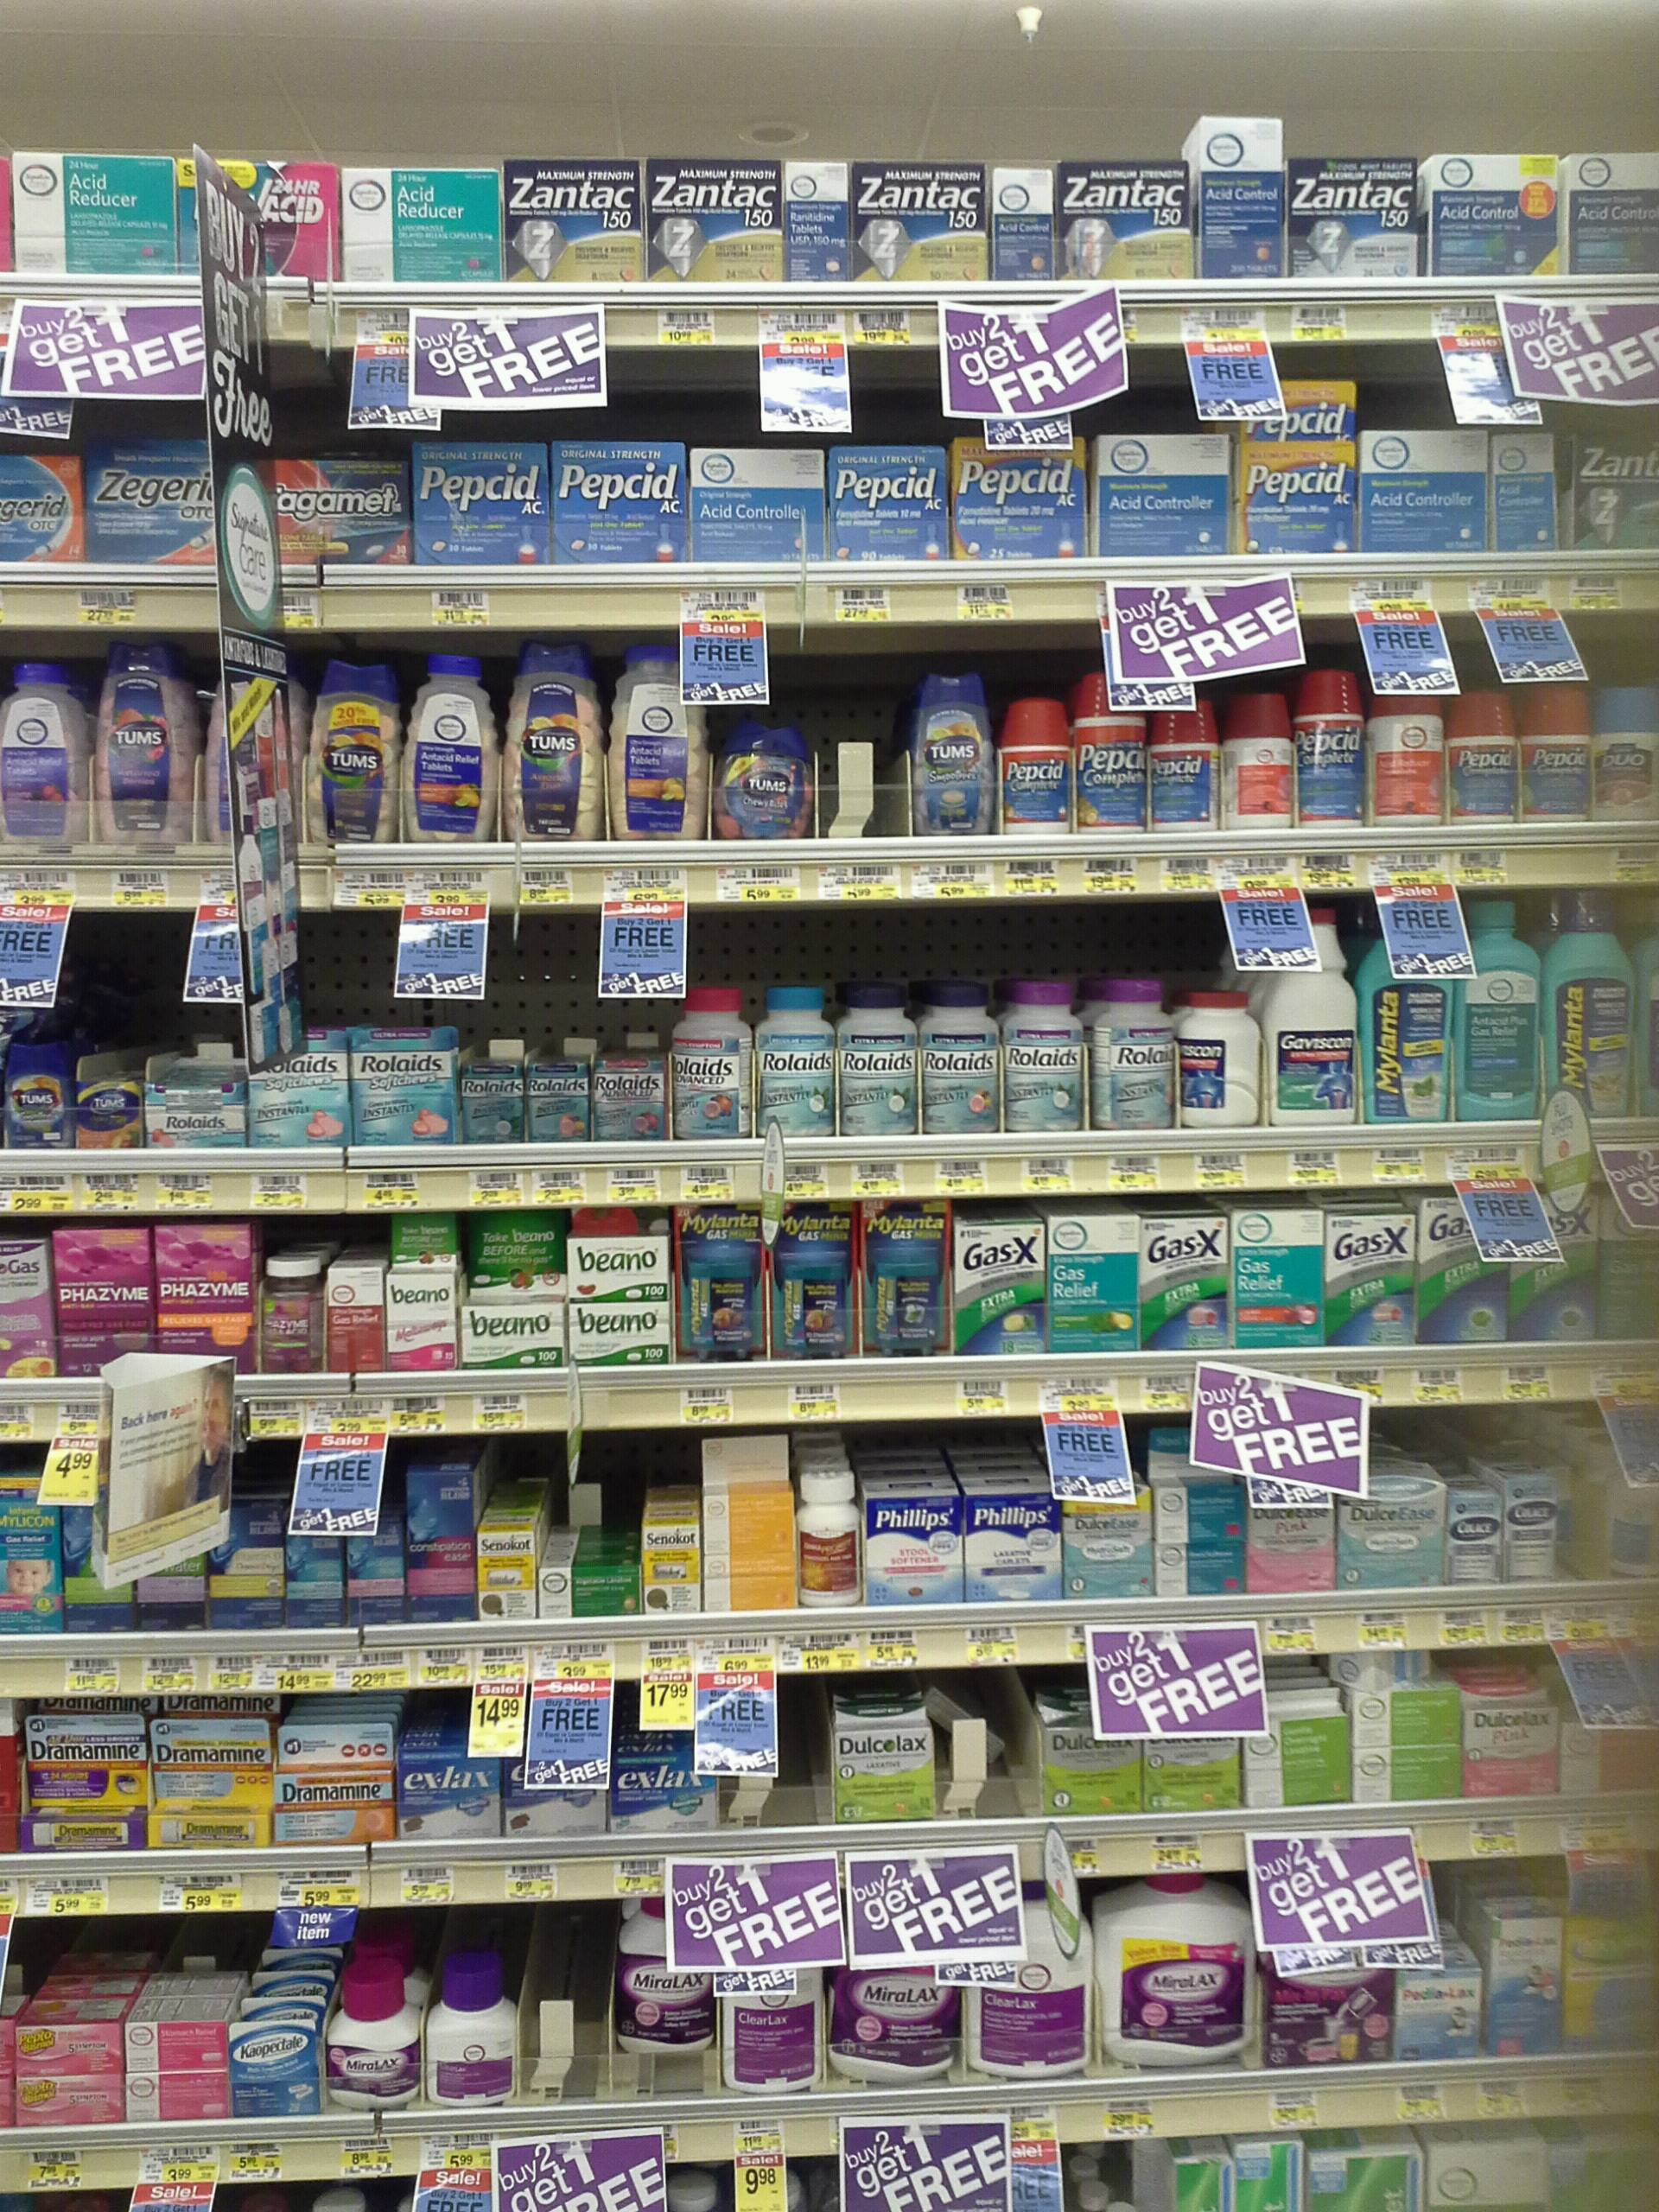Out-of-stock: (518, 1900, 613, 2099)
